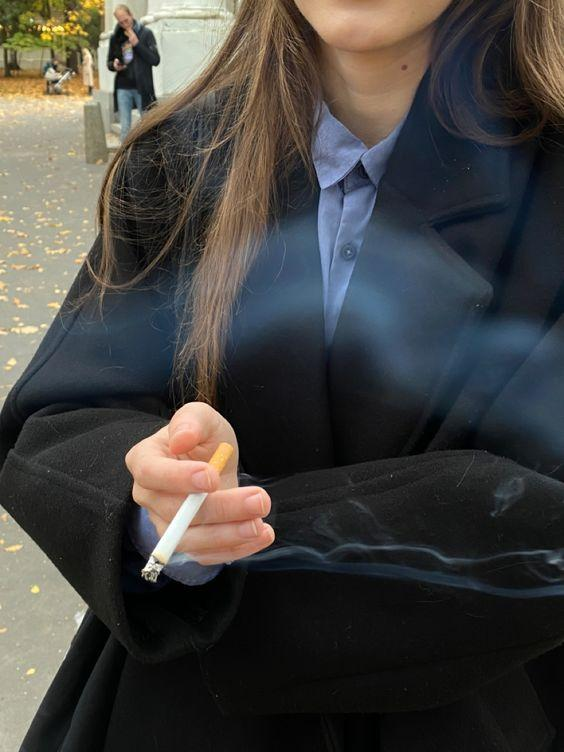cigarette: (141, 443, 233, 582)
